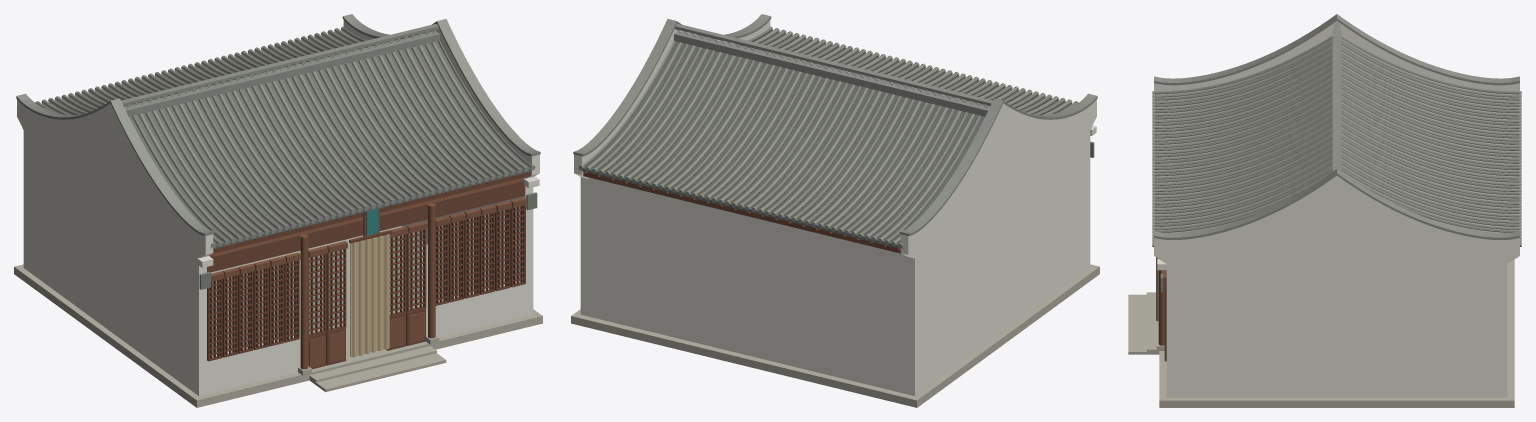
File: chongming-yimen-raw.glb
3 views of the same model, side by side, from view 1: azimuth 30°, elevation 25°; view 2: azimuth 150°, elevation 25°; view 3: azimuth 270°, elevation 25° (orthographic). The views are drawn at different scales.
Visible parts, largest first — view 1: 崇明学宫仪门（照片形态参照候选）; view 2: 崇明学宫仪门（照片形态参照候选）; view 3: 崇明学宫仪门（照片形态参照候选）.
Boxes of the visible parts, x1=… form: 崇明学宫仪门（照片形态参照候选）: x1=14, y1=14, x2=542, y2=407; 崇明学宫仪门（照片形态参照候选）: x1=571, y1=14, x2=1099, y2=407; 崇明学宫仪门（照片形态参照候选）: x1=1128, y1=14, x2=1521, y2=407.
Size of the model in its own units: 10.6 by 7 by 10.74.
